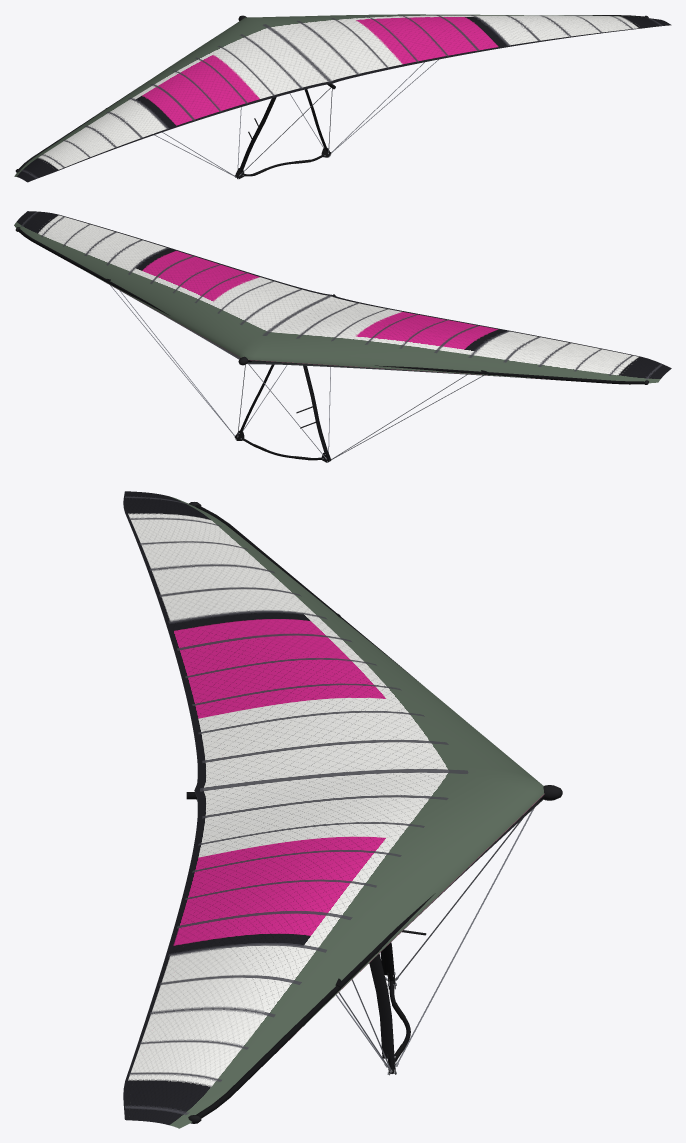
The model's file is glider_ww_t2c.glb.
3 views of the same model, one above another, from view 1: azimuth 30°, elevation 25°; view 2: azimuth 150°, elevation 25°; view 3: azimuth 270°, elevation 25° (orthographic). The views are drawn at different scales.
Visible parts, largest first — view 1: Sail, ControlFrame, Frame; view 2: Sail, ControlFrame, Frame; view 3: Sail, ControlFrame, Frame.
Part boxes in pixels (bbox=[...]): Sail: bbox=[14, 14, 671, 182]; ControlFrame: bbox=[154, 59, 438, 179]; Frame: bbox=[15, 15, 648, 172]; Sail: bbox=[14, 211, 671, 383]; ControlFrame: bbox=[110, 285, 483, 462]; Frame: bbox=[15, 227, 648, 384]; Sail: bbox=[123, 491, 544, 1128]; ControlFrame: bbox=[196, 799, 534, 1075]; Frame: bbox=[186, 502, 562, 1123].
Size of the model in its own units: 9.8 by 1.94 by 2.89.
Materials: 8 (1 with a texture image).
